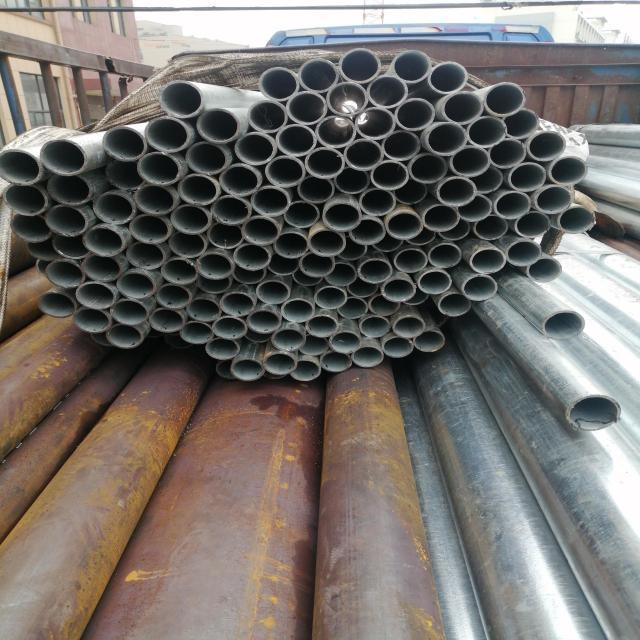pipe: (562, 392, 622, 437), (40, 138, 88, 177), (142, 115, 191, 152), (160, 79, 205, 119), (100, 124, 147, 161), (0, 147, 42, 186), (195, 108, 239, 143), (338, 48, 382, 83), (185, 142, 230, 176), (217, 164, 262, 198), (541, 308, 586, 342), (8, 211, 54, 243), (136, 152, 182, 184), (274, 123, 316, 158), (296, 58, 338, 93), (47, 173, 90, 207), (247, 99, 290, 133), (285, 91, 328, 125), (313, 115, 356, 149), (483, 82, 526, 116), (177, 173, 221, 206), (247, 185, 291, 218), (105, 158, 150, 190), (131, 184, 176, 216), (381, 128, 423, 162), (326, 83, 369, 116), (1, 185, 48, 215), (425, 122, 467, 155), (448, 145, 490, 178), (43, 257, 86, 289), (43, 205, 86, 237), (128, 214, 171, 246), (233, 133, 276, 165), (354, 107, 397, 139), (259, 67, 298, 102), (80, 226, 124, 257), (265, 155, 307, 187), (303, 148, 345, 180), (406, 152, 448, 184), (91, 192, 134, 223), (343, 140, 384, 172), (426, 62, 467, 94), (441, 91, 483, 122), (169, 205, 212, 235), (238, 216, 281, 246), (395, 98, 435, 130), (391, 50, 431, 82), (527, 131, 567, 163), (123, 240, 167, 269), (322, 201, 364, 231), (369, 160, 409, 191), (437, 176, 477, 207), (467, 116, 507, 147), (36, 290, 77, 320), (212, 196, 253, 226), (232, 242, 272, 272), (533, 184, 573, 214), (492, 189, 532, 219), (423, 204, 461, 235), (76, 282, 117, 310), (101, 323, 145, 349), (308, 229, 346, 259), (349, 217, 387, 247), (559, 206, 597, 236), (52, 233, 92, 261), (205, 222, 245, 250), (195, 252, 235, 280), (468, 246, 508, 274), (504, 107, 539, 139), (549, 156, 589, 184), (490, 138, 527, 168), (513, 210, 550, 240), (360, 188, 398, 217), (83, 256, 122, 284), (218, 290, 257, 318), (167, 231, 207, 258), (297, 177, 337, 204), (506, 239, 543, 268), (527, 256, 564, 285), (111, 298, 149, 326), (509, 164, 547, 192), (72, 308, 111, 335), (159, 257, 198, 284), (147, 308, 186, 335), (244, 308, 283, 335), (184, 297, 222, 324), (456, 194, 494, 221), (116, 273, 155, 299), (283, 200, 319, 228), (254, 280, 291, 307), (427, 241, 462, 269), (153, 283, 192, 308), (210, 316, 249, 341), (261, 350, 297, 377), (331, 168, 368, 194), (193, 271, 231, 296), (204, 336, 242, 361), (180, 320, 215, 347), (273, 231, 308, 258), (463, 274, 498, 301), (473, 213, 508, 240), (230, 260, 267, 285), (298, 252, 335, 277), (277, 298, 314, 323), (271, 327, 308, 352), (315, 348, 352, 373), (231, 359, 267, 384), (320, 263, 356, 288), (313, 284, 346, 311), (359, 257, 392, 284), (27, 236, 62, 261), (287, 358, 322, 383), (328, 330, 363, 355), (437, 292, 472, 317), (417, 271, 452, 296), (437, 216, 470, 242), (265, 253, 300, 277), (392, 179, 427, 203), (394, 248, 427, 273), (392, 315, 425, 340), (472, 167, 505, 192), (351, 344, 386, 367), (305, 315, 339, 338), (357, 316, 391, 339), (336, 296, 368, 320), (334, 238, 367, 261), (383, 336, 415, 359), (414, 330, 444, 353), (215, 355, 240, 382), (299, 335, 330, 356), (348, 277, 379, 298), (86, 328, 120, 347), (406, 227, 438, 247), (241, 328, 274, 347), (292, 268, 323, 288), (373, 235, 402, 253), (404, 287, 429, 307), (35, 256, 57, 277)
